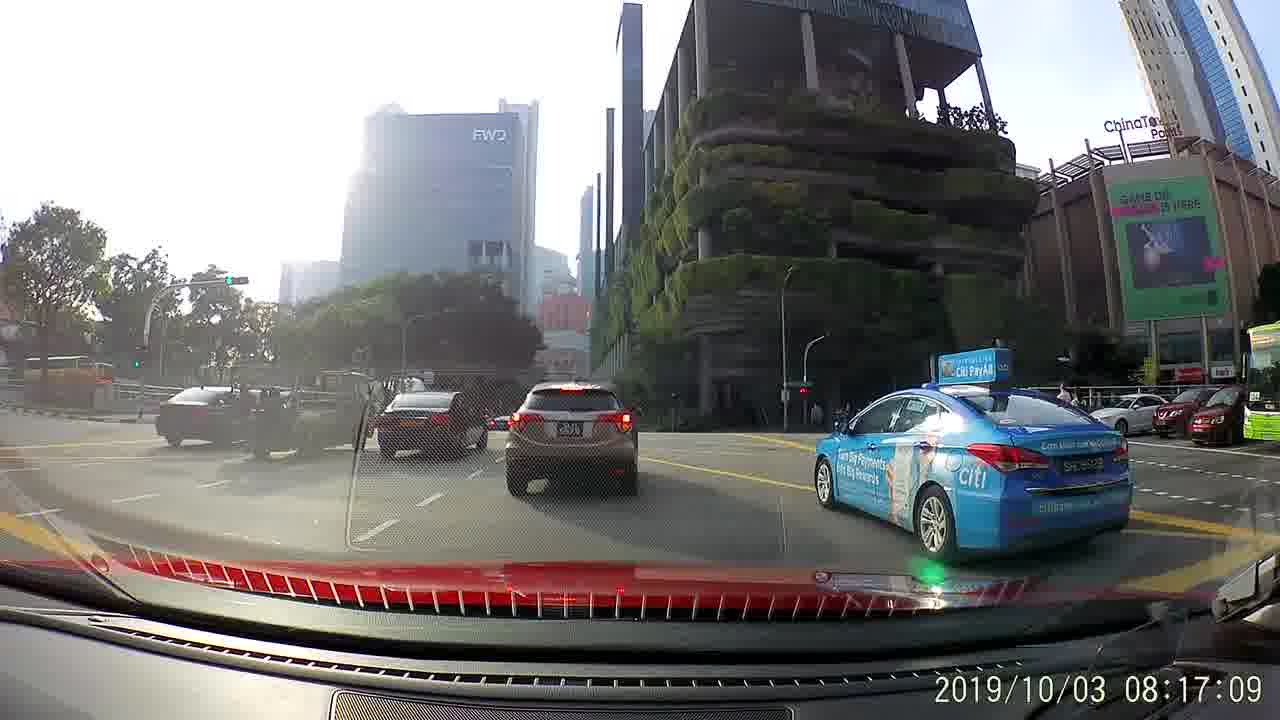bus: (1239, 321, 1279, 449), (23, 353, 92, 390)
car: (820, 343, 1134, 564), (503, 376, 642, 502), (378, 385, 489, 462), (153, 378, 246, 449), (1088, 391, 1171, 439), (1158, 380, 1217, 438), (1190, 378, 1243, 442)
